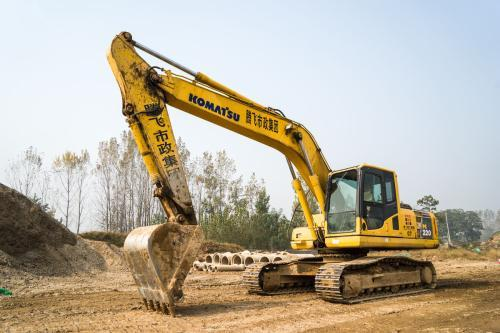excavator: (105, 34, 435, 260)
